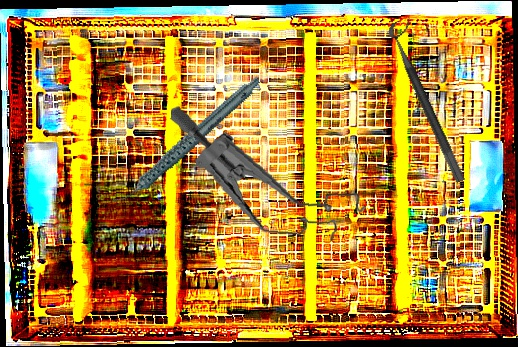Fixation Ring: (385, 16, 479, 184)
Handpiece: (93, 76, 280, 207)
Speculum: (159, 103, 375, 248)
